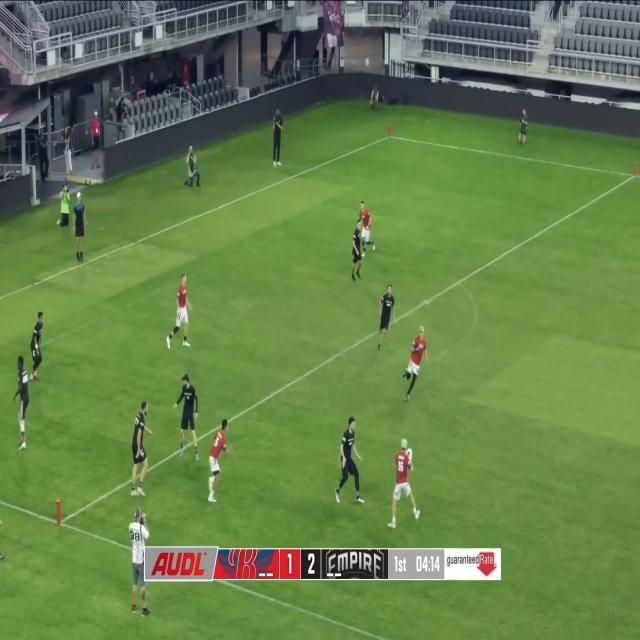Disc: (406, 448, 412, 463)
Player: (387, 439, 422, 529), (334, 417, 366, 506), (130, 402, 152, 498), (169, 272, 195, 352), (401, 328, 428, 402), (175, 374, 200, 451), (208, 418, 230, 504), (14, 355, 29, 450), (376, 284, 396, 350), (30, 311, 46, 375), (74, 195, 89, 262), (360, 200, 375, 256), (352, 220, 362, 281)
